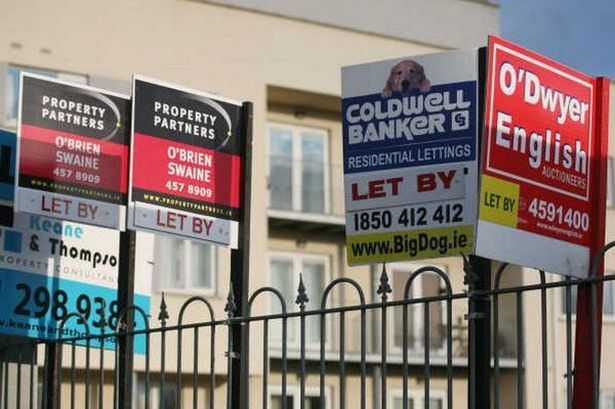property sign: (329, 47, 481, 278), (480, 21, 601, 283), (124, 54, 251, 266), (17, 55, 129, 240)
